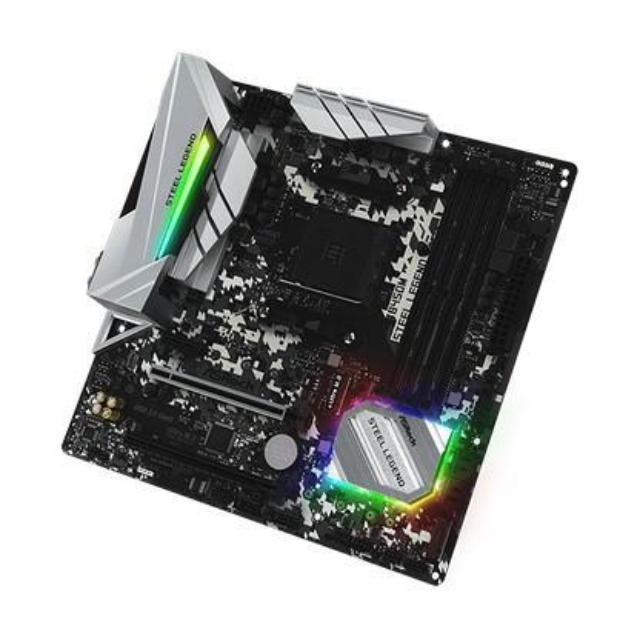Mainboard: (56, 44, 579, 598)
